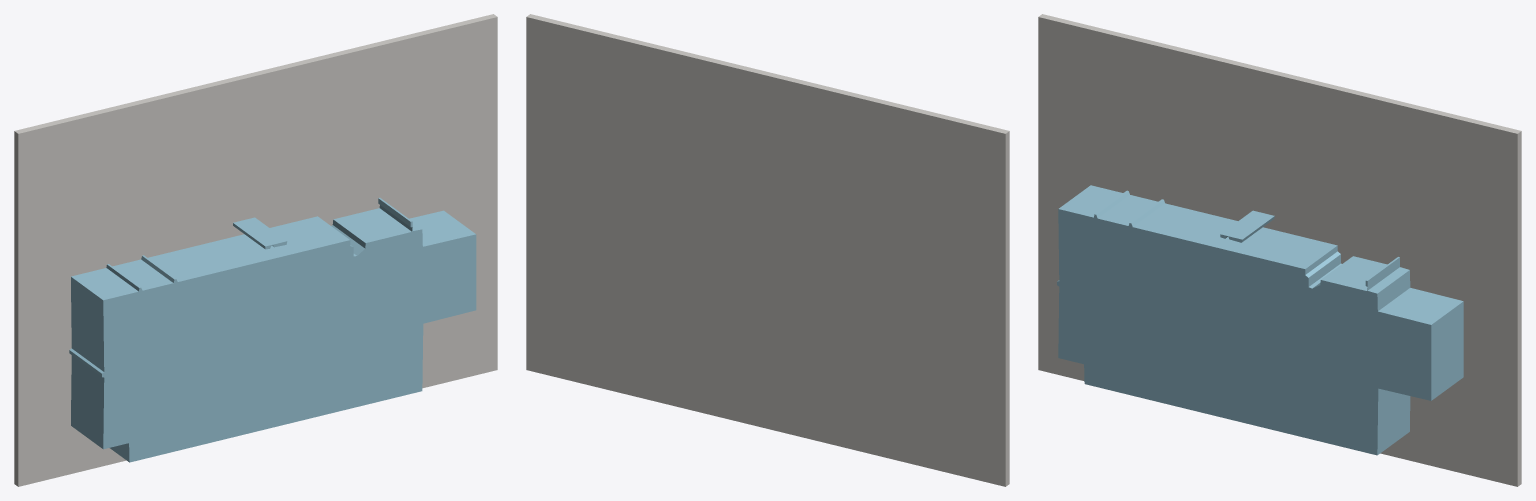
3 renders of one model, left to right at view 1: azimuth 30°, elevation 25°; view 2: azimuth 150°, elevation 25°; view 3: azimuth 330°, elevation 25°, orthographic.
Visible parts, largest first — view 1: world; view 2: world; view 3: world.
Part boxes in pixels (left/top/right/bottom): world: left=14, top=14, right=497, bottom=486; world: left=526, top=14, right=1009, bottom=486; world: left=1038, top=14, right=1521, bottom=486.
Bounding box in the file's own units: 10.23 × 7.2 × 1.35.
